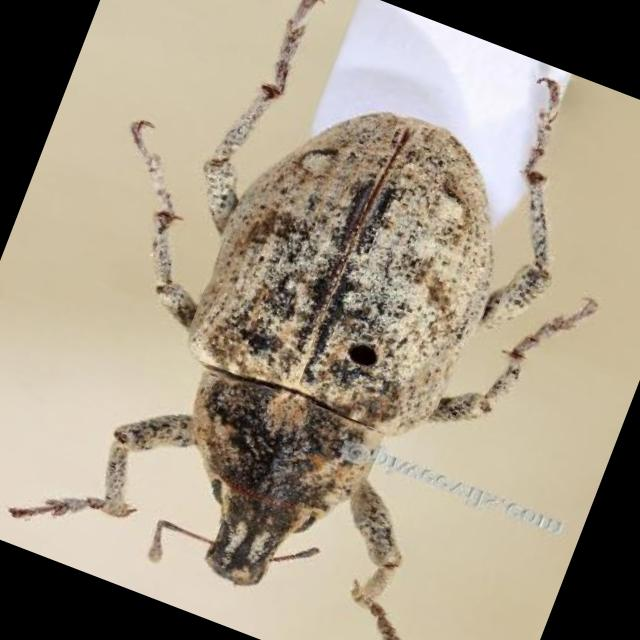rice-bug: (44, 10, 598, 640)
